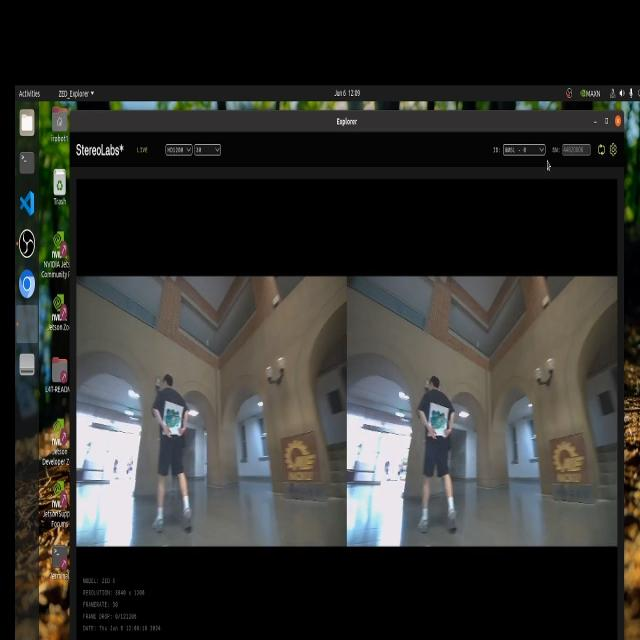green: (161, 402, 180, 440), (434, 410, 448, 436)
